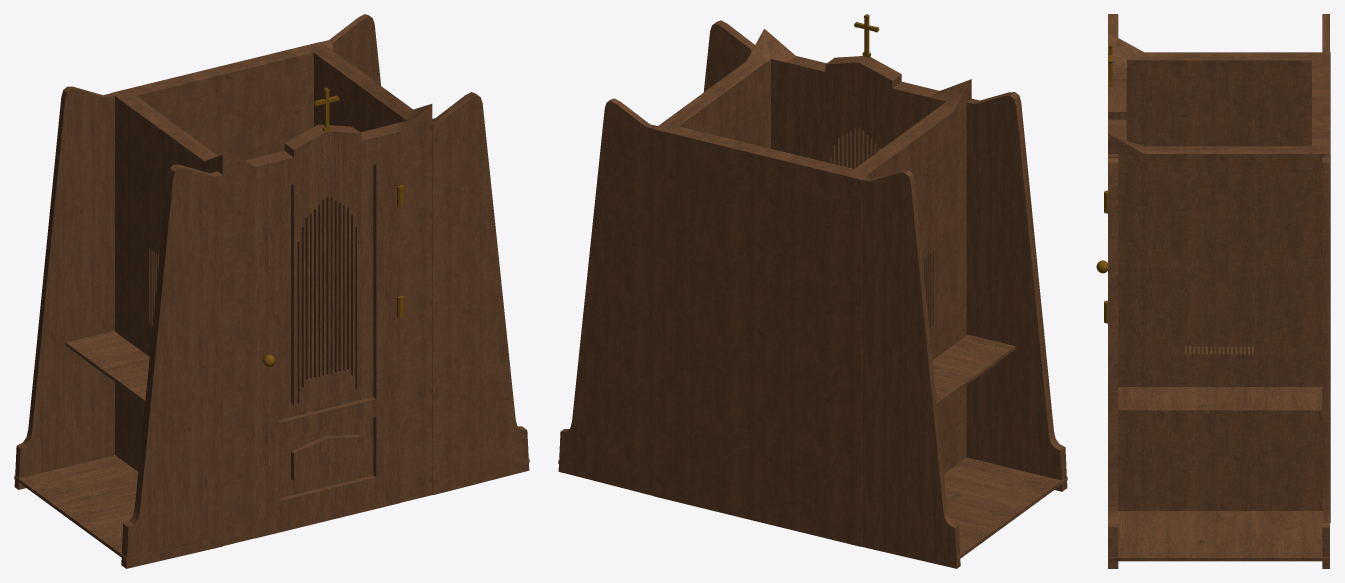
File: budk_textr.FBX
3 renders of one model, left to right at view 1: azimuth 30°, elevation 25°; view 2: azimuth 150°, elevation 25°; view 3: azimuth 270°, elevation 25°, orthographic.
Visible parts, largest first — view 1: Line851, Box054, Box104, Box103, Box031, Box032; view 2: Line851, Box104, Box103, Box054, Box031, Box032; view 3: Line851, Box028, Box103, Box029, Box054, Box104.
Part boxes in pixels (left/top/right/bottom): Line851: left=111, top=42, right=432, bottom=545; Box054: left=246, top=124, right=400, bottom=538; Box104: left=14, top=86, right=222, bottom=568; Box103: left=321, top=14, right=529, bottom=494; Box031: left=14, top=455, right=222, bottom=560; Box032: left=65, top=331, right=149, bottom=403; Line851: left=653, top=28, right=971, bottom=546; Box104: left=861, top=92, right=1067, bottom=568; Box103: left=558, top=20, right=754, bottom=495; Box054: left=787, top=56, right=939, bottom=168; Box031: left=944, top=457, right=1067, bottom=560; Box032: left=932, top=334, right=1015, bottom=406; Line851: left=1108, top=32, right=1330, bottom=523; Box028: left=1108, top=511, right=1329, bottom=561; Box103: left=1108, top=154, right=1329, bottom=568; Box029: left=1118, top=387, right=1322, bottom=413; Box054: left=1108, top=68, right=1126, bottom=153; Box104: left=1108, top=14, right=1329, bottom=67.
Size of the model in its own units: 2500 by 2557 by 1265.
Materials: 3 (2 with a texture image).
